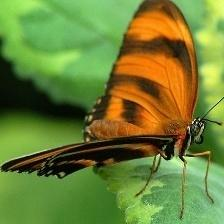butterfly: (1, 0, 209, 178)
